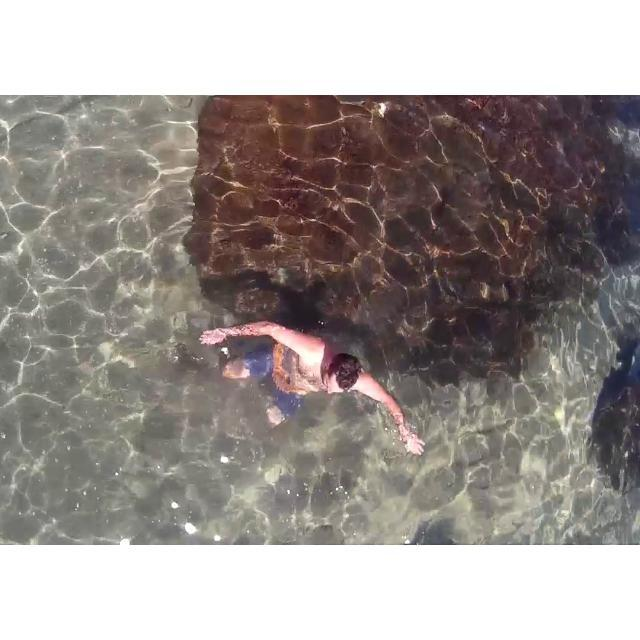human: (231, 291, 421, 461)
